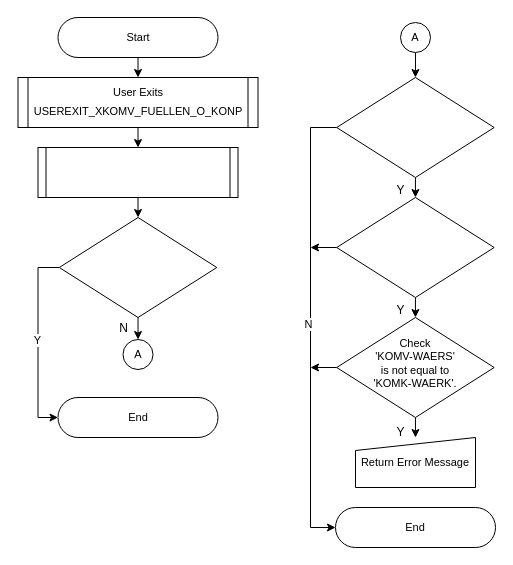
The diagram is 513 pixels wide and 565 high, and some of its shapes have lost their labels. Each missing label, with the centre of its shape:
Check 'KOMK-BSTYP' is 'F', 'KOMK-BSART' is 'NB'.: pixel 415 127
Check 'KOMK-KNUMV' is not initial, 'KOMV-KNUMV' is initial.: pixel 137 267
Check 'KOMV-WAERS' is not initial.: pixel 415 247
Enhancement ZME_RV61AFZB: pixel 137 172
